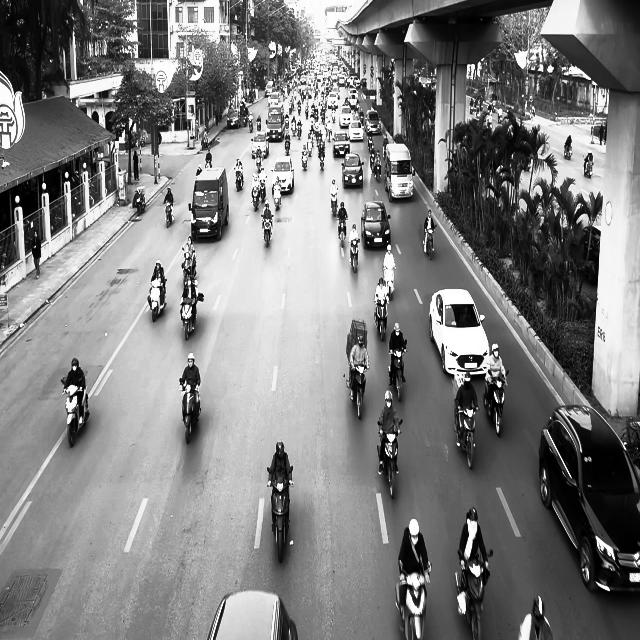car: (538, 403, 640, 594), (429, 288, 490, 376), (206, 590, 298, 640), (361, 200, 391, 250), (271, 155, 294, 194), (341, 153, 365, 188), (251, 130, 269, 158)
motorbike: (455, 548, 493, 640), (395, 562, 431, 640), (267, 466, 293, 563), (60, 377, 90, 448), (378, 418, 402, 499), (453, 401, 479, 469), (482, 369, 508, 436), (178, 378, 202, 444), (344, 363, 369, 420), (180, 292, 203, 340), (388, 344, 407, 401), (147, 277, 167, 322), (374, 294, 388, 342), (182, 246, 196, 287), (423, 224, 436, 260), (261, 212, 274, 247), (383, 265, 395, 300), (349, 240, 359, 273), (337, 217, 347, 249), (134, 188, 146, 214), (164, 200, 174, 228), (272, 183, 282, 210), (583, 153, 593, 178), (251, 184, 260, 211), (234, 167, 243, 192), (330, 191, 338, 216), (564, 142, 572, 160)
truck: (188, 166, 229, 241)
